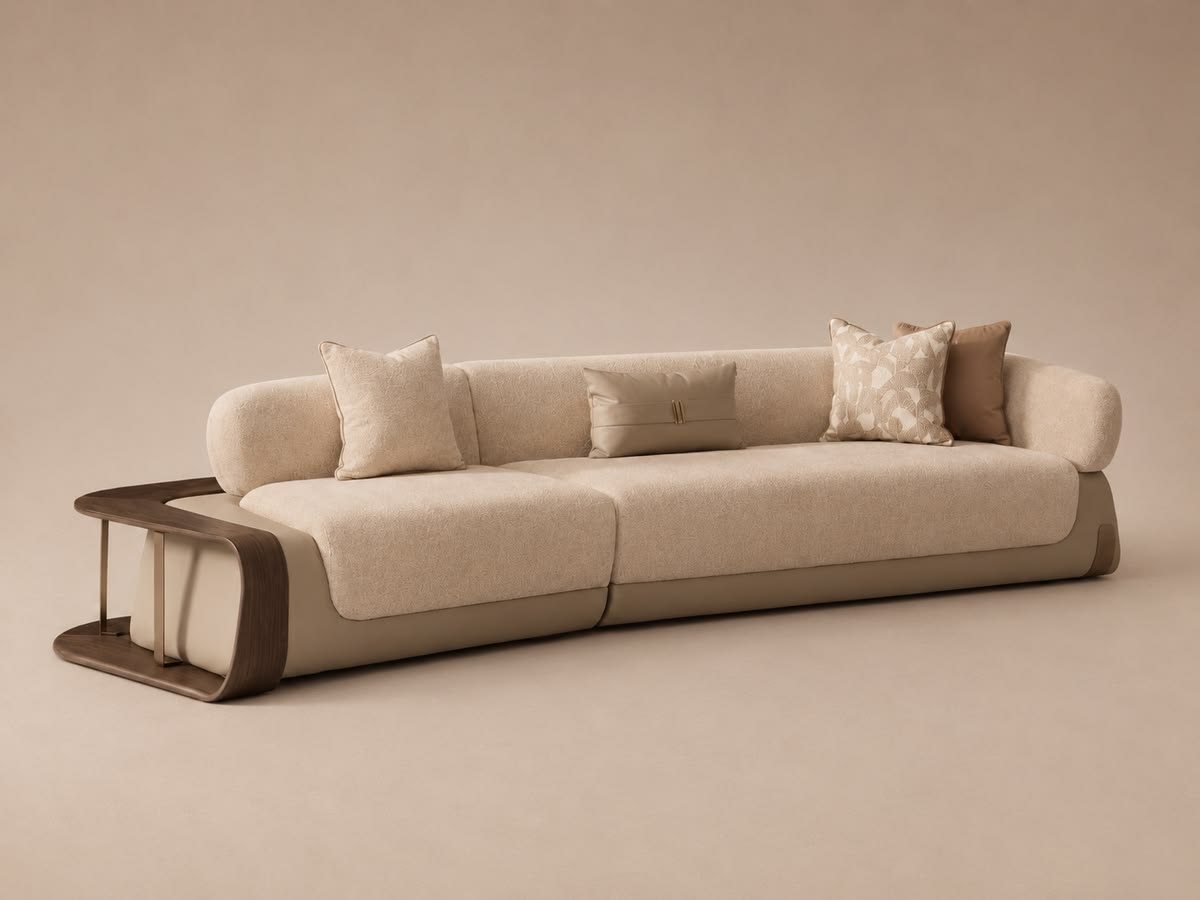3seatersofa: (55, 318, 1121, 701)
backrest: (444, 348, 831, 464), (208, 370, 341, 494)
base: (181, 473, 1119, 677), (166, 535, 241, 673), (130, 537, 152, 648)
leftarmrest: (1005, 355, 1121, 472)
leg: (55, 478, 288, 701)
pillow: (820, 319, 1010, 445), (321, 337, 463, 477), (584, 362, 742, 456)
seat: (242, 443, 1078, 619)
